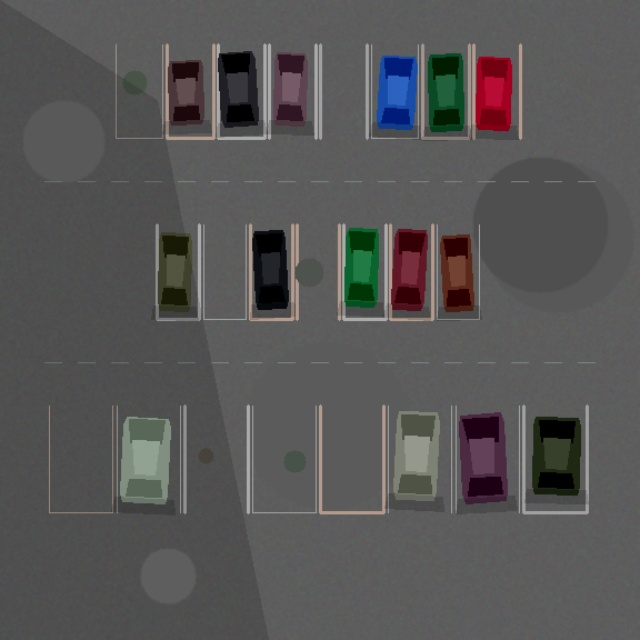space-empty: (184, 406, 248, 512), (252, 406, 316, 512), (49, 406, 112, 512), (320, 406, 383, 512), (320, 44, 367, 138), (116, 44, 162, 138), (203, 224, 246, 319), (297, 224, 339, 319)
space-occupied: (523, 406, 587, 512), (117, 406, 180, 512), (388, 406, 451, 512), (456, 406, 519, 512), (269, 44, 316, 138), (371, 44, 418, 138), (422, 44, 469, 138), (473, 44, 520, 138), (167, 44, 213, 138), (218, 44, 264, 138), (343, 224, 386, 319), (157, 224, 199, 319), (250, 224, 292, 319), (390, 224, 432, 319), (437, 224, 479, 319)
